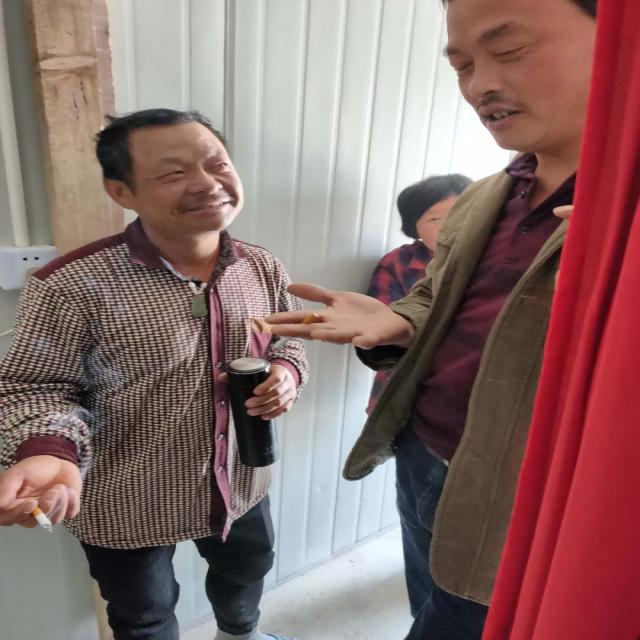cigarette: (22, 493, 61, 535)
